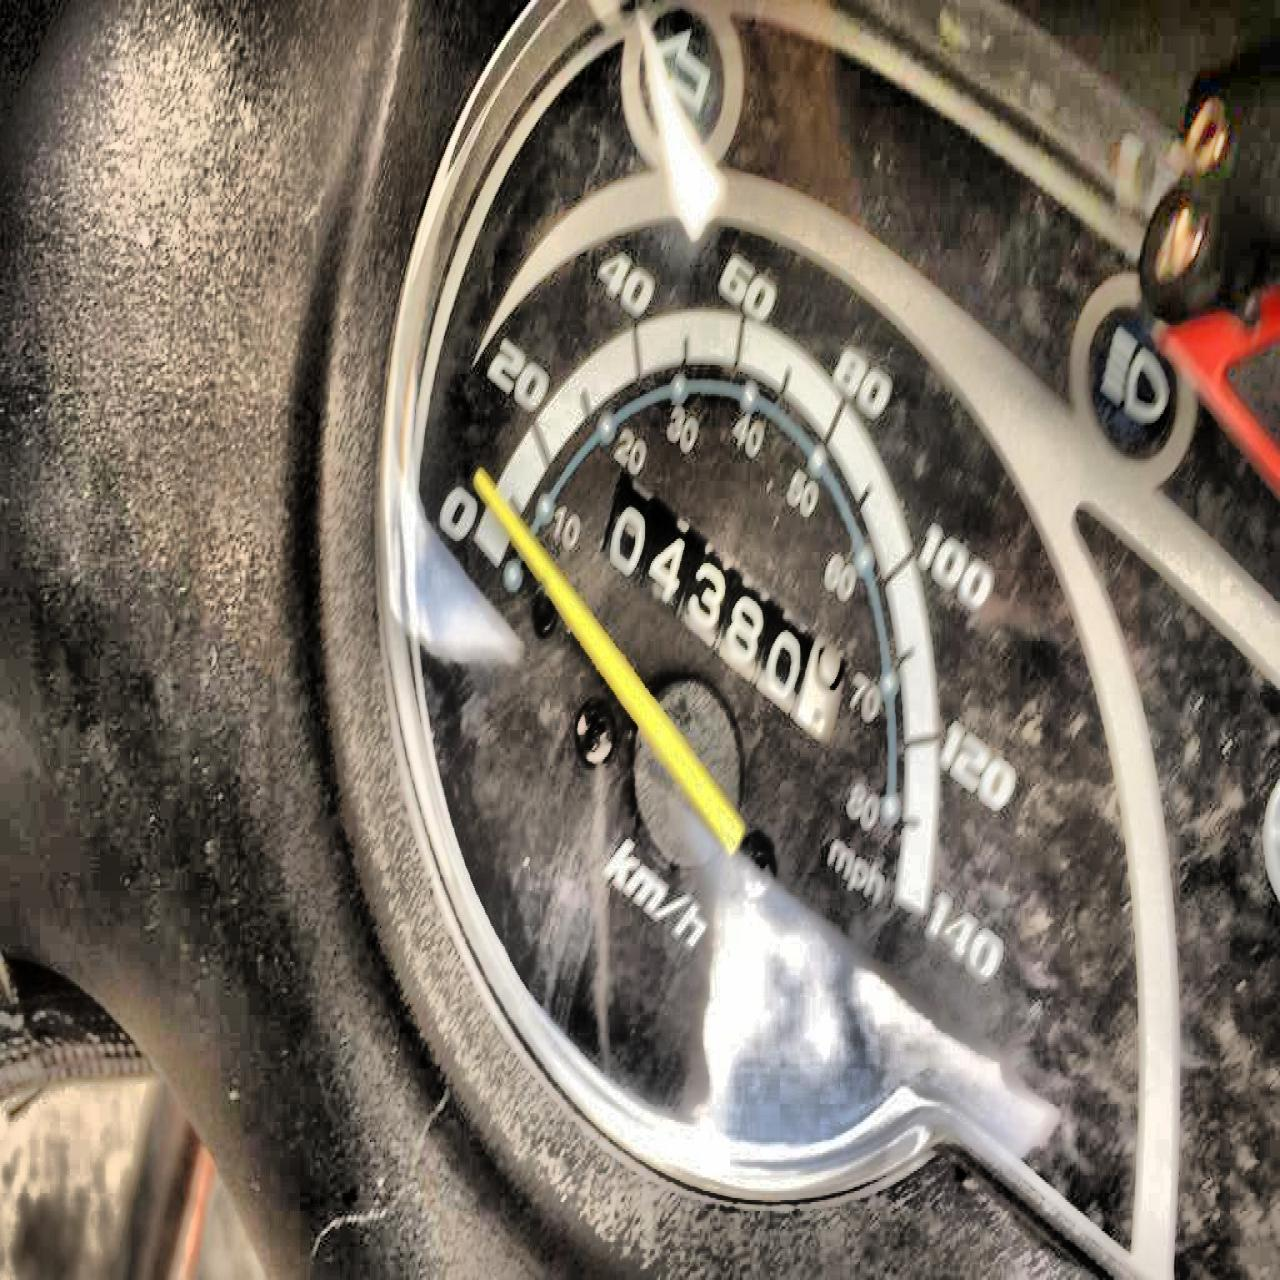0: (607, 503, 644, 574), (765, 628, 801, 697), (813, 629, 846, 693), (835, 563, 855, 601), (798, 478, 817, 517)
3: (686, 559, 726, 628)
4: (647, 535, 683, 601)
5: (785, 468, 806, 508)
6: (823, 550, 844, 590)
8: (726, 592, 763, 666)
odometer: (595, 463, 850, 750)
